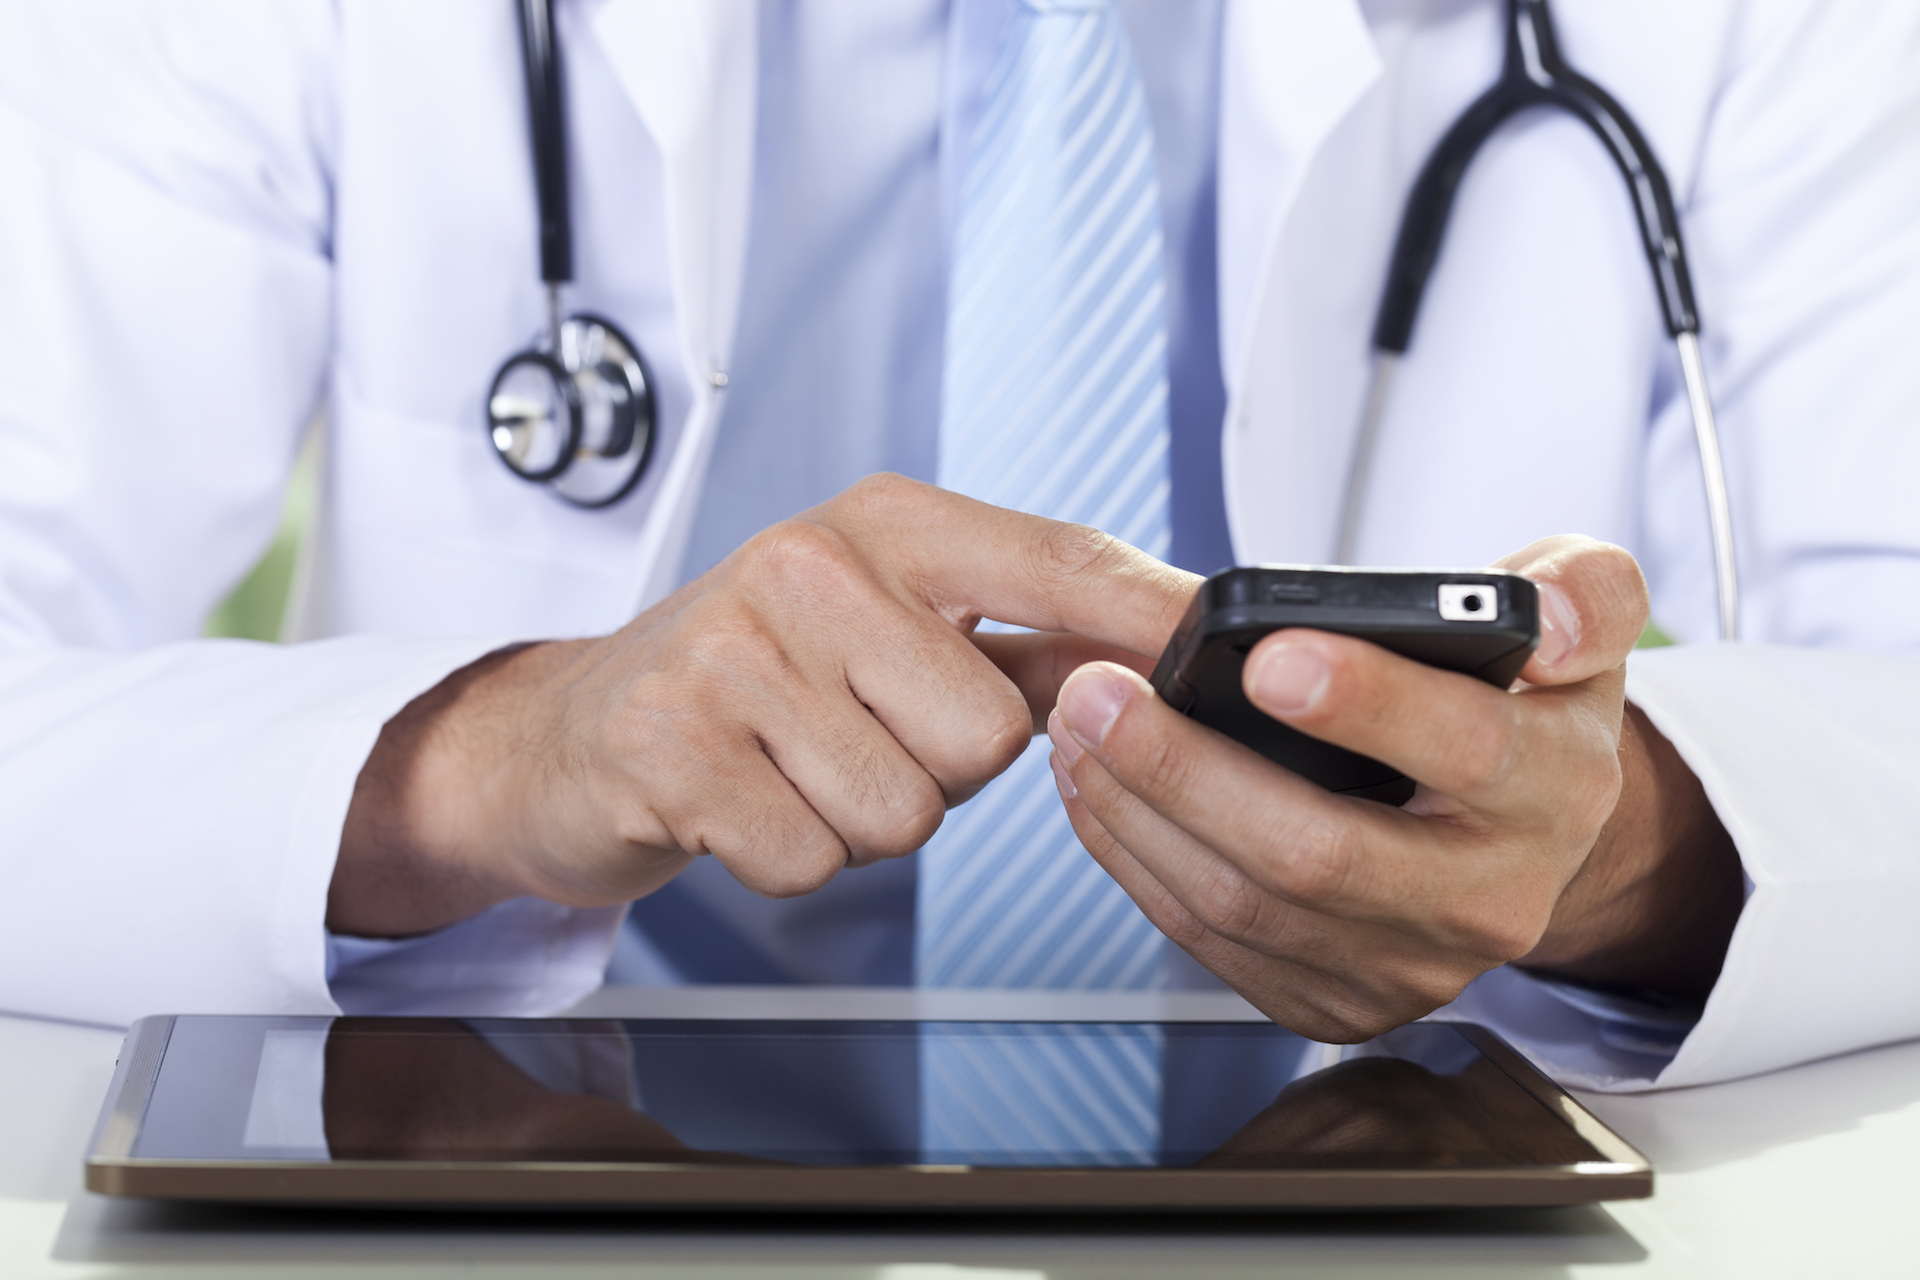smartphone: (1149, 567, 1540, 811)
